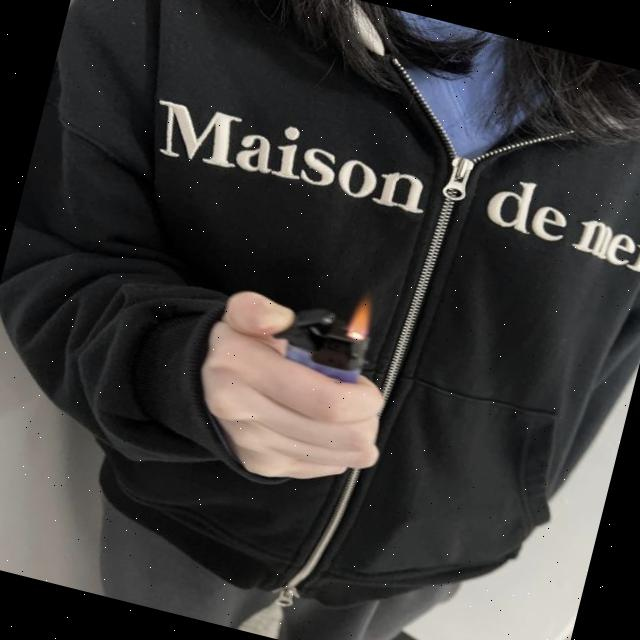fire: (344, 291, 377, 341)
